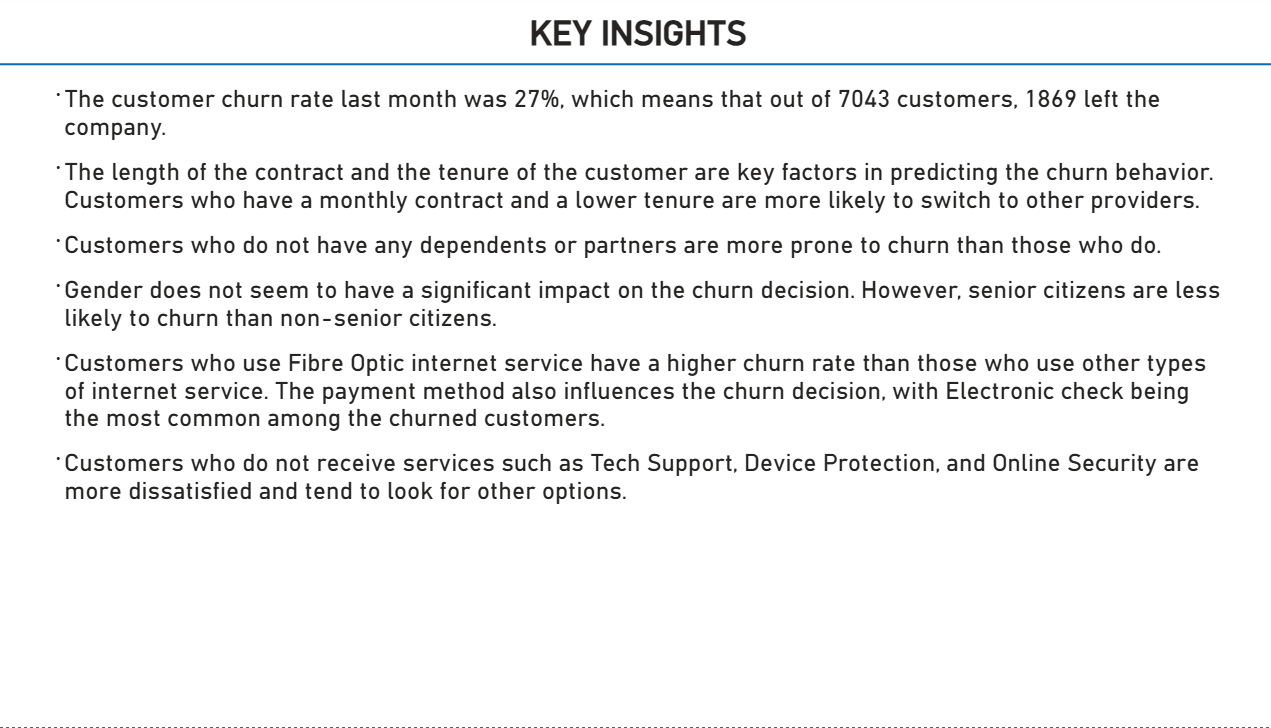

This screenshot's page, from the dashboard's own definition file:
{"tool":"powerbi","page":{"name":"Insights","canvas":[1280,720],"ordinal":2},"visuals":[{"type":"shape","box":[0,43.3,1280,51.1],"z":0},{"type":"textbox","box":[500,13.3,280,55.6],"z":1000},{"type":"textbox","box":[53.3,84.4,1164.4,635.6],"z":2000}]}

Visuals, with their boxes in screenshot pixels (x1, y1, x2, y2), scaled from the page's 1280x720 canvas onto the 1271x728 screenshot:
shape: [x1=0, y1=44, x2=1270, y2=95]
textbox: [x1=496, y1=13, x2=775, y2=70]
textbox: [x1=53, y1=85, x2=1209, y2=727]
